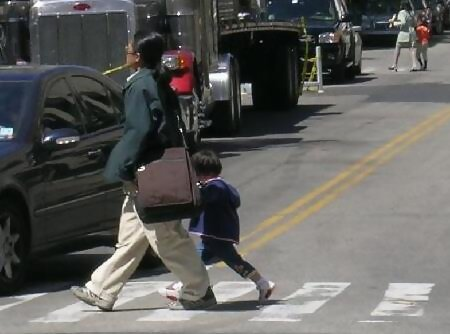person: (73, 22, 215, 308), (182, 145, 281, 301)
